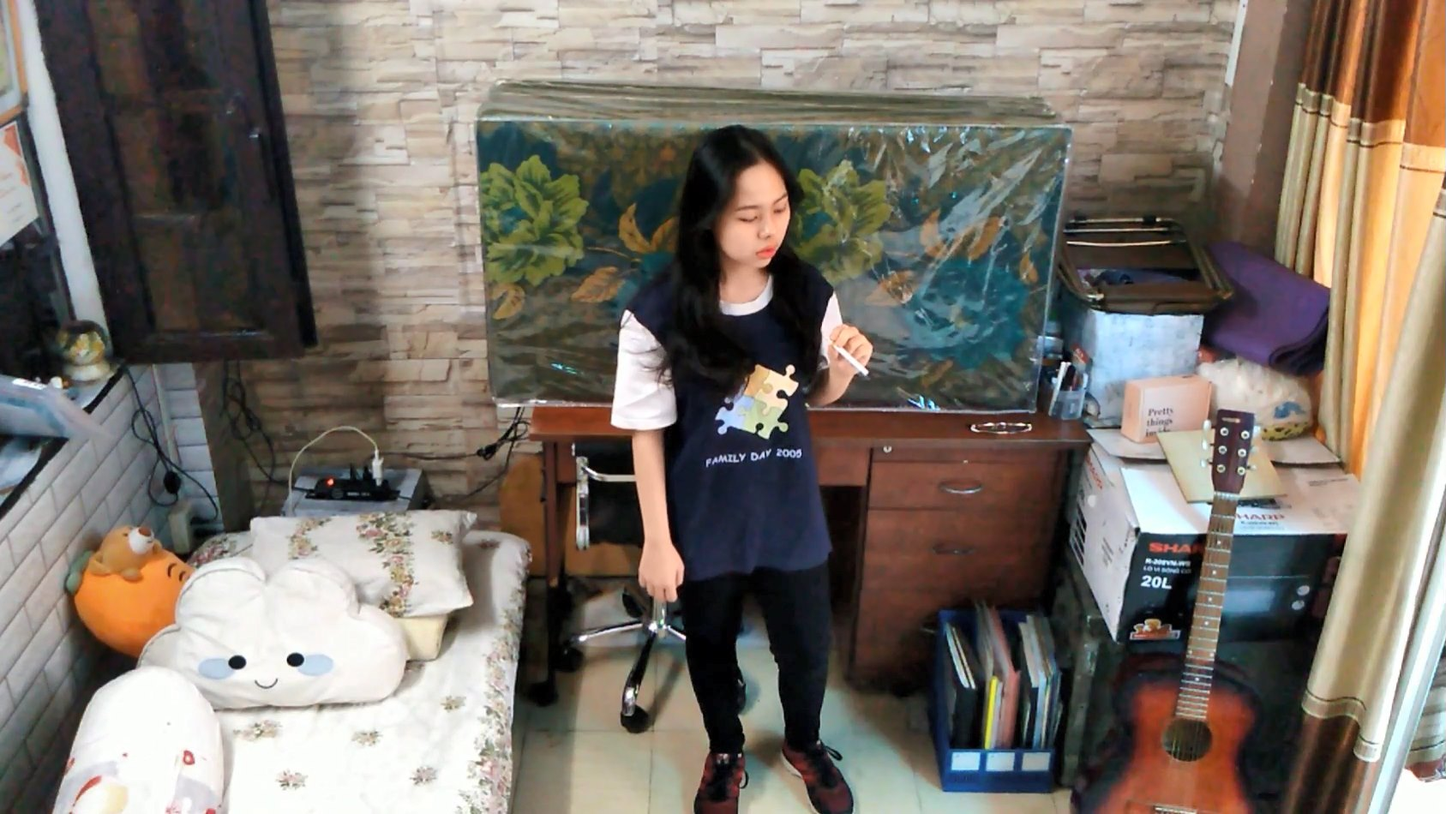cigarette: (825, 334, 873, 386)
person: (592, 117, 897, 814)
